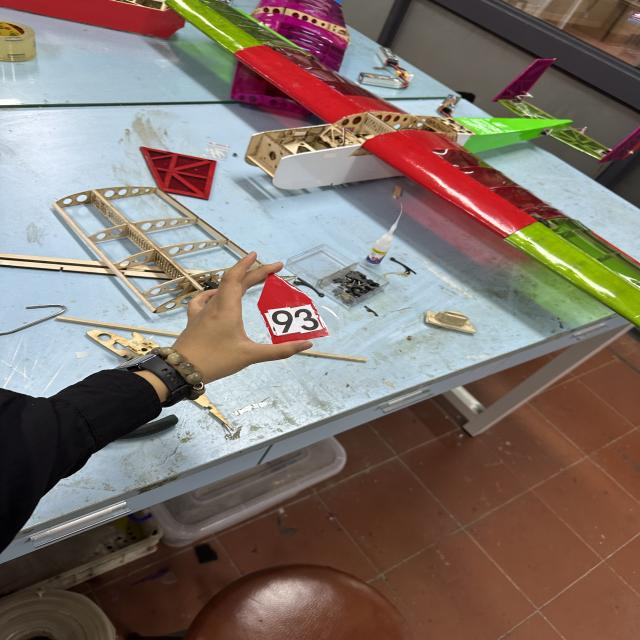board: (257, 270, 334, 346)
